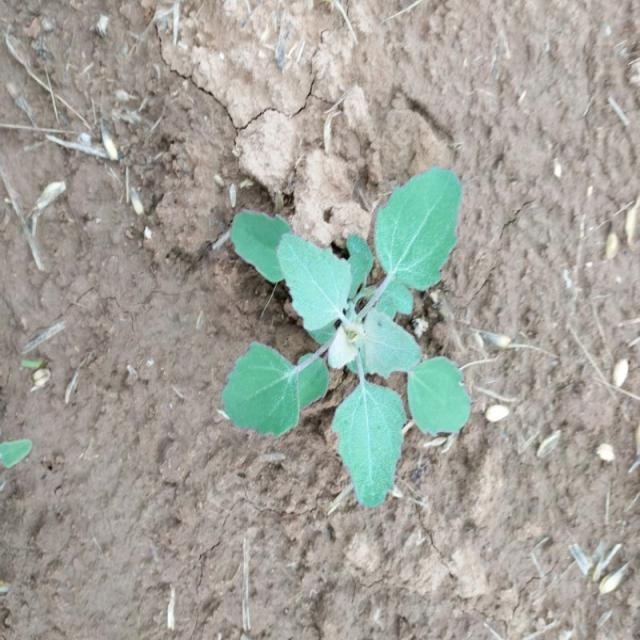goosefoots: (238, 195, 476, 468)
